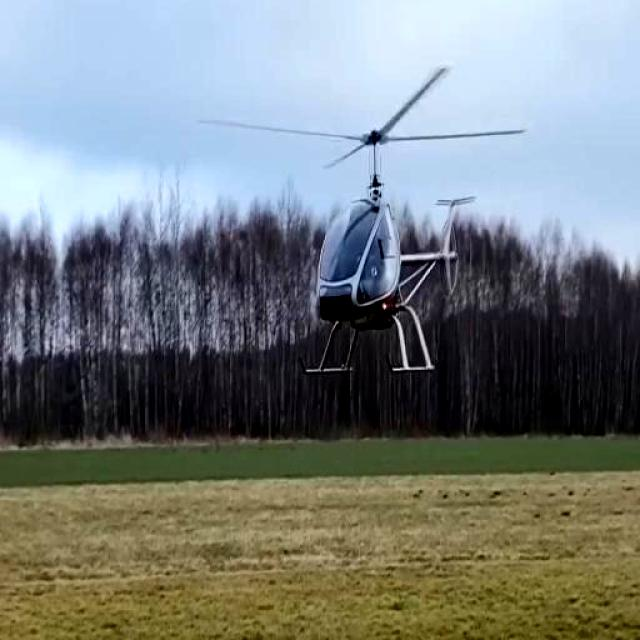drone: (195, 58, 525, 382)
